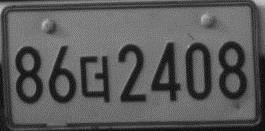0: (184, 41, 212, 100)
2: (117, 43, 148, 103)
4: (149, 40, 181, 101)
6: (46, 44, 77, 104)
8: (14, 45, 45, 104), (216, 39, 246, 99)
더: (78, 53, 111, 104)
